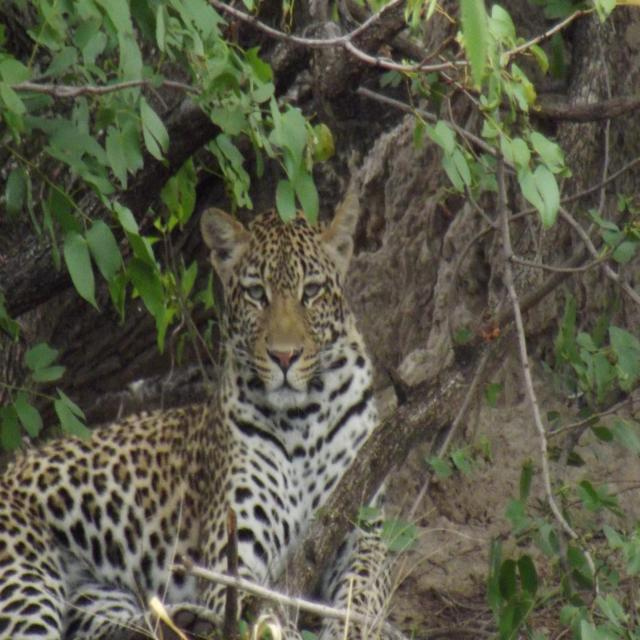Leopard: (1, 202, 415, 640)
